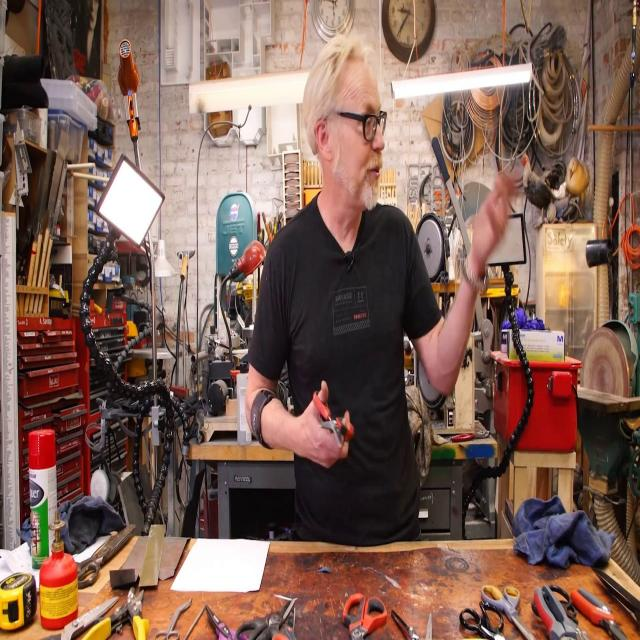scissor: (73, 524, 136, 588), (480, 583, 534, 640), (235, 598, 296, 640), (312, 390, 354, 449), (342, 592, 386, 640), (155, 597, 192, 640), (461, 603, 504, 640), (207, 604, 234, 640), (275, 607, 299, 640)
